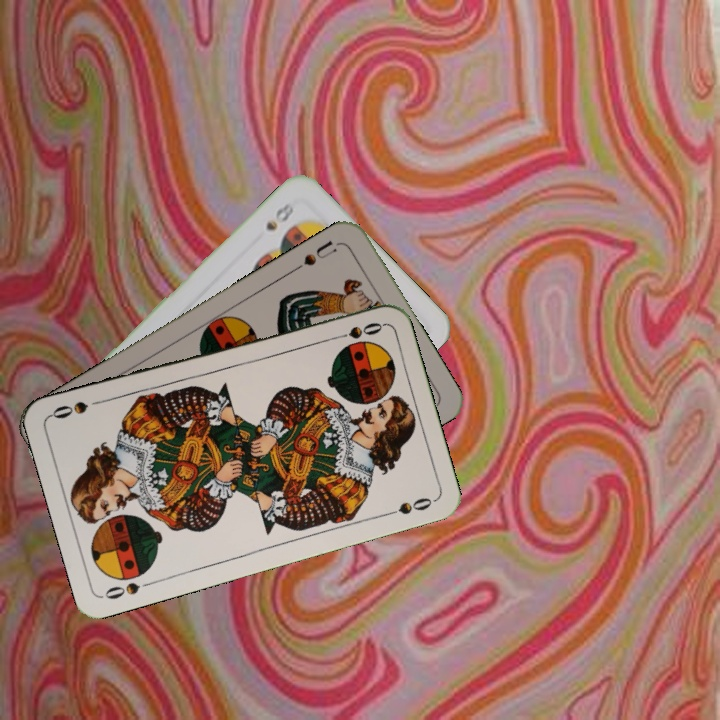S8: (262, 198, 297, 234)
SO: (327, 318, 385, 343), (101, 577, 157, 602)
SU: (289, 236, 343, 274)
